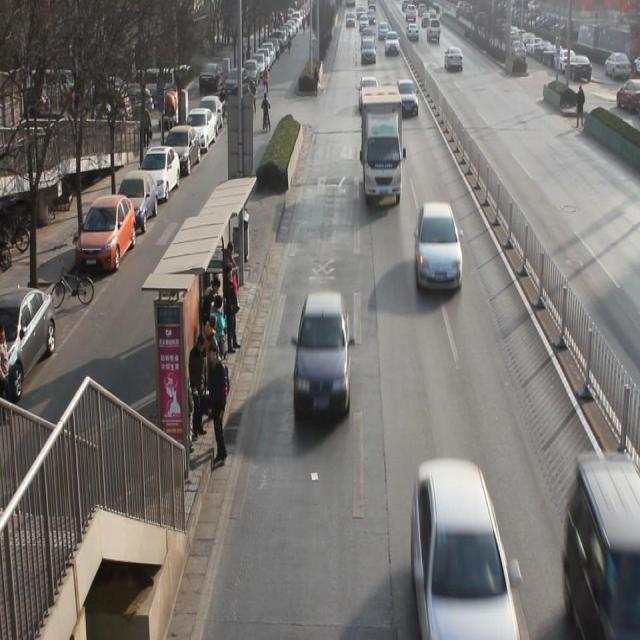bus: (361, 90, 403, 202)
car: (412, 461, 512, 627), (568, 450, 640, 640), (294, 288, 356, 425), (413, 204, 468, 300), (396, 78, 419, 115), (358, 75, 380, 111), (444, 47, 464, 70), (361, 39, 377, 64), (385, 30, 400, 54)
